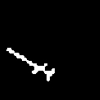double_crochet: (7, 48, 54, 80)
